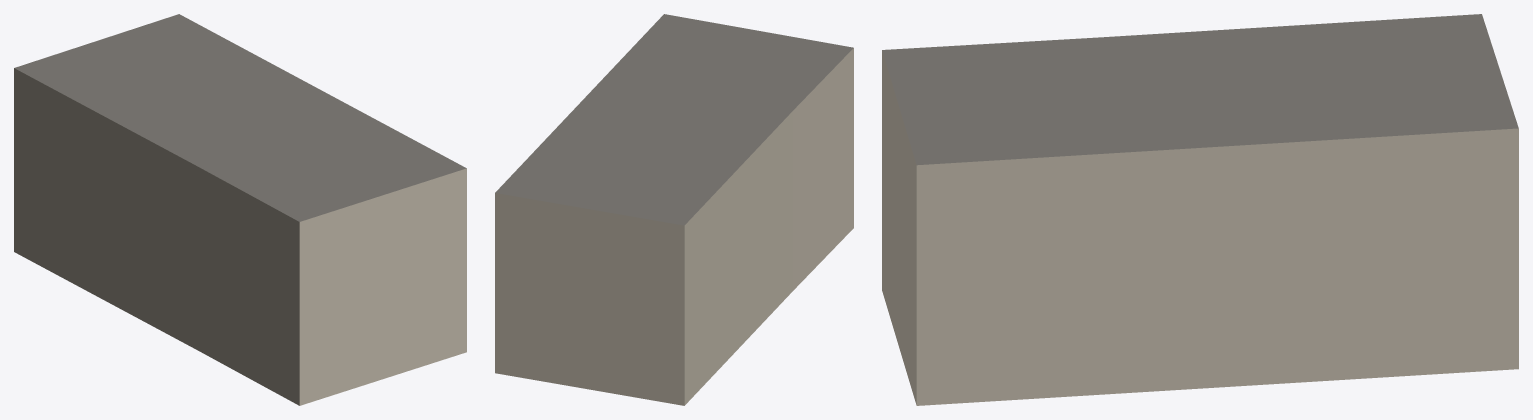
3 views of the same model, side by side, from view 1: azimuth 30°, elevation 25°; view 2: azimuth 150°, elevation 25°; view 3: azimuth 270°, elevation 25° (orthographic). The views are drawn at different scales.
Visible parts, largest first — view 1: HP-w378107091; view 2: HP-w378107091; view 3: HP-w378107091.
Boxes of the visible parts, left/top/right/bottom form: HP-w378107091: left=14, top=14, right=466, bottom=405; HP-w378107091: left=495, top=14, right=853, bottom=405; HP-w378107091: left=882, top=14, right=1518, bottom=405.
Size of the model in its own units: 20.21 by 15 by 35.96.
